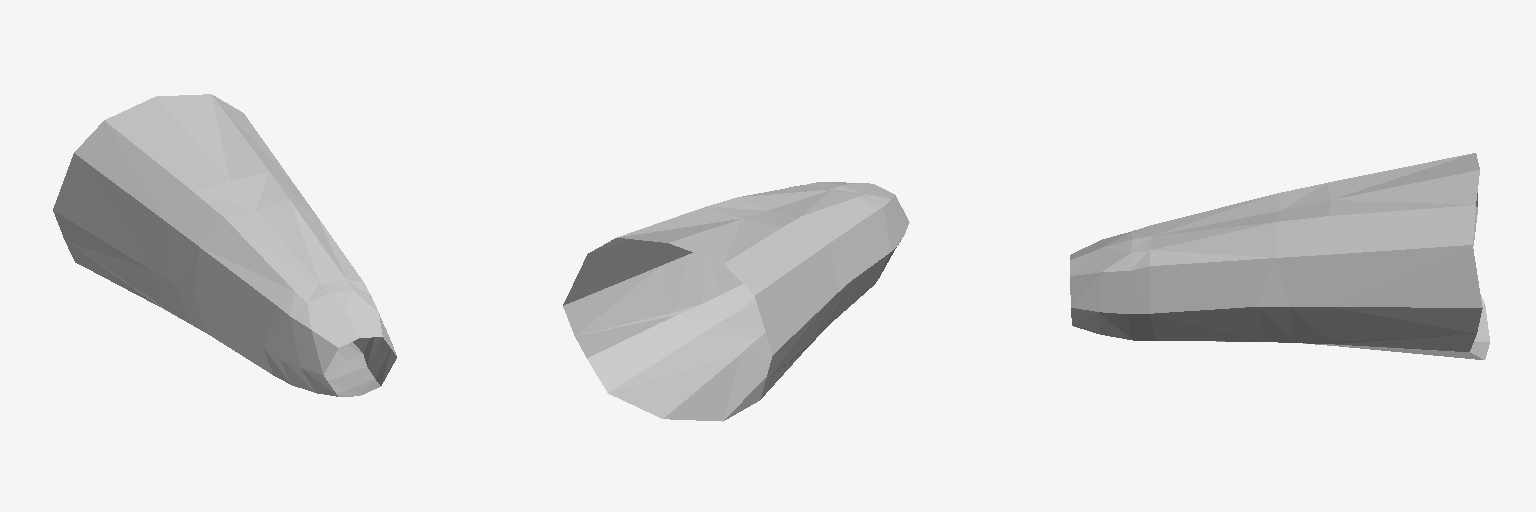
Rendered from priest_trousers_male_54120.obj.
The picture shows the model from 3 angles: view 1: azimuth 30°, elevation 25°; view 2: azimuth 150°, elevation 25°; view 3: azimuth 270°, elevation 25°; orthographic projection.
Parts seen in each view (by area): view 1: priest_trousers_male_54120; view 2: priest_trousers_male_54120; view 3: priest_trousers_male_54120.
Boxes of the visible parts, <box> form: priest_trousers_male_54120: <box>53,94,396,396</box>; priest_trousers_male_54120: <box>563,182,909,421</box>; priest_trousers_male_54120: <box>1070,153,1489,359</box>.
Size of the model in its own units: 32.43 by 25.71 by 56.82.